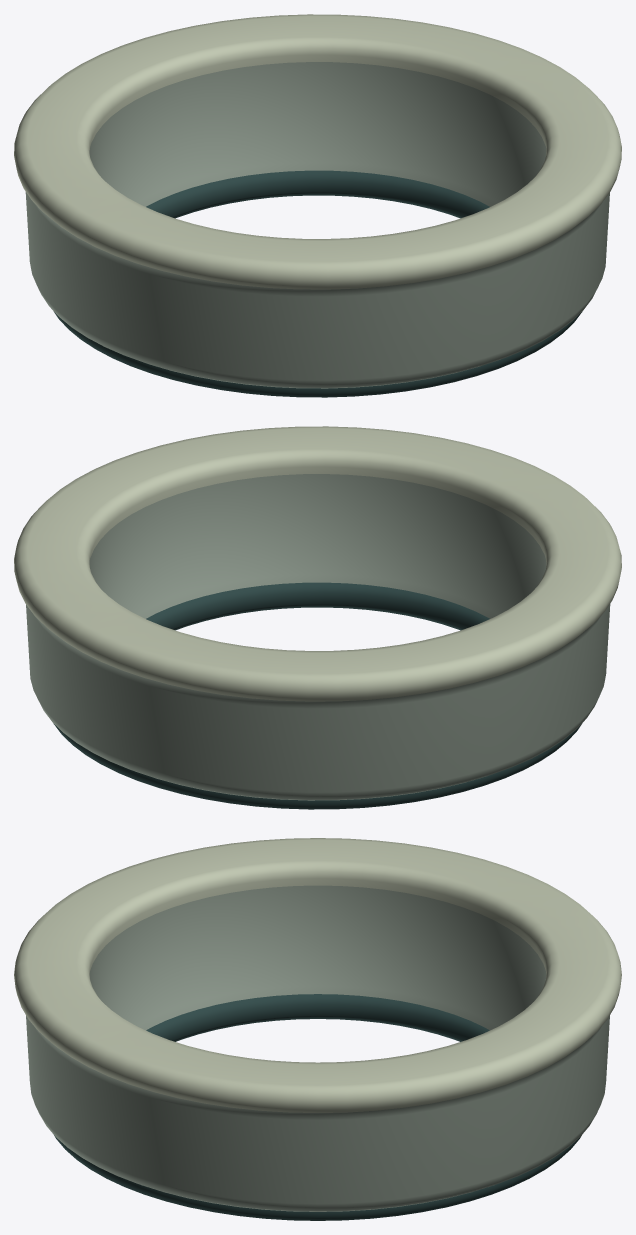
Rendered from reexport.glb.
3 renders of one model, top to bottom at view 1: azimuth 30°, elevation 25°; view 2: azimuth 150°, elevation 25°; view 3: azimuth 270°, elevation 25°, orthographic.
Parts seen in each view (by area): view 1: cast_stone_open_surround, recessed_annular_foot; view 2: cast_stone_open_surround, recessed_annular_foot; view 3: cast_stone_open_surround, recessed_annular_foot.
Part boxes in pixels (box(x1,y1,x2,y2)): cast_stone_open_surround: box(14, 14, 621, 388); recessed_annular_foot: box(53, 170, 582, 397); cast_stone_open_surround: box(14, 426, 621, 800); recessed_annular_foot: box(53, 582, 582, 809); cast_stone_open_surround: box(14, 838, 621, 1211); recessed_annular_foot: box(54, 994, 581, 1220).
Size of the model in its own units: 1.8 by 0.48 by 1.8.
